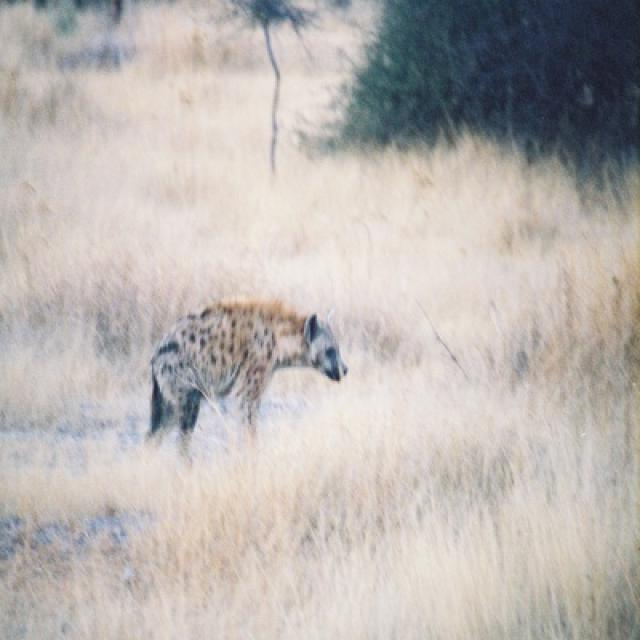hyena: (147, 301, 349, 456)
